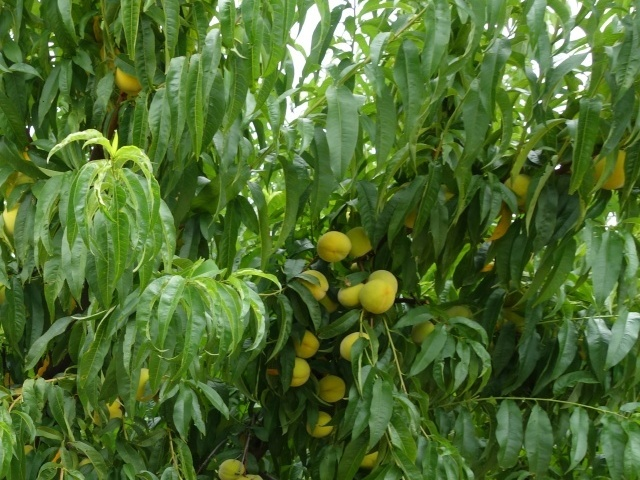peach: (587, 146, 633, 194), (501, 168, 539, 213), (312, 228, 355, 265), (357, 278, 397, 315), (296, 265, 332, 305), (341, 220, 376, 260), (337, 329, 377, 362), (129, 369, 163, 406), (89, 396, 127, 429), (112, 63, 145, 99), (334, 277, 368, 310), (304, 410, 338, 443), (291, 329, 324, 362), (315, 372, 348, 405), (285, 354, 313, 390), (486, 210, 514, 244), (214, 457, 250, 480), (407, 318, 437, 345)
